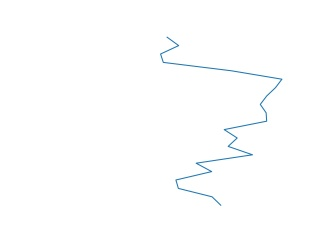floodPlain: (159, 34, 283, 207)
